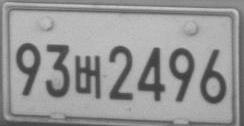2: (107, 44, 134, 101)
3: (44, 43, 70, 98)
4: (136, 46, 165, 102)
6: (198, 48, 227, 105)
9: (167, 47, 195, 102), (15, 41, 42, 96)
버: (74, 54, 101, 99)
